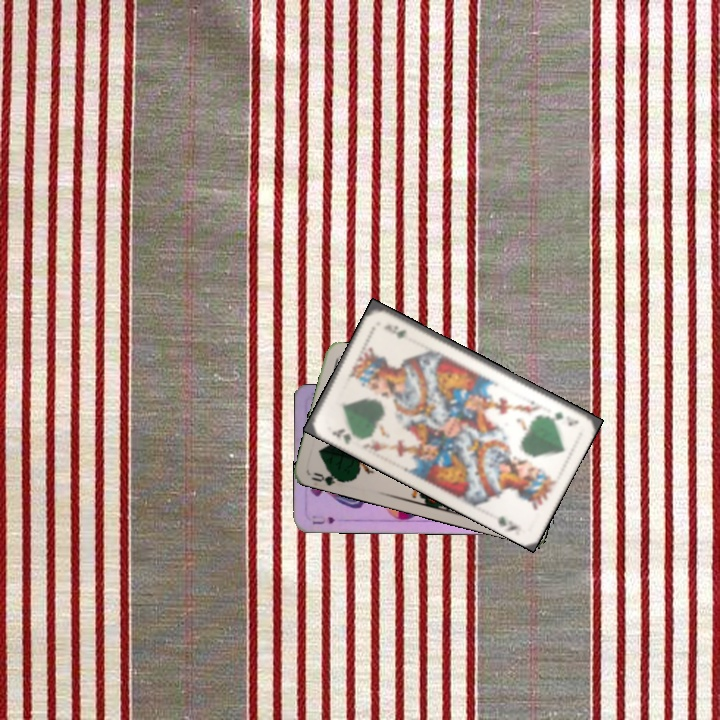GK: (551, 407, 581, 429), (328, 425, 354, 447)
GO: (307, 465, 348, 487)
SU: (308, 512, 337, 527)
